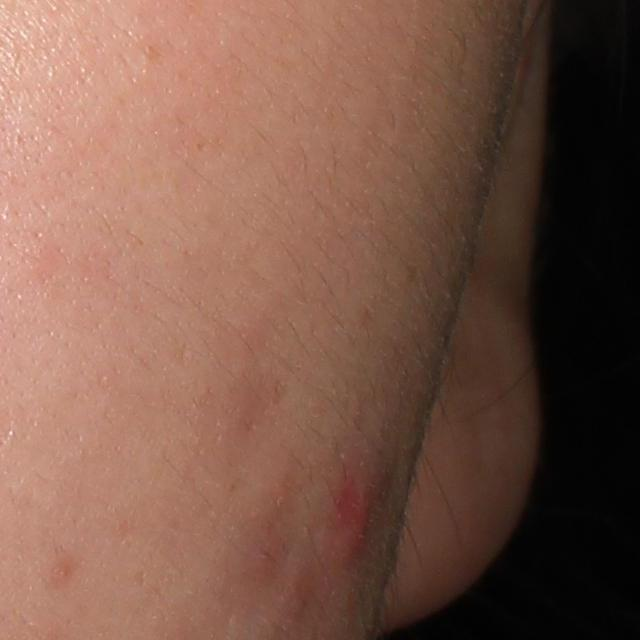papule: (335, 488, 380, 565)
